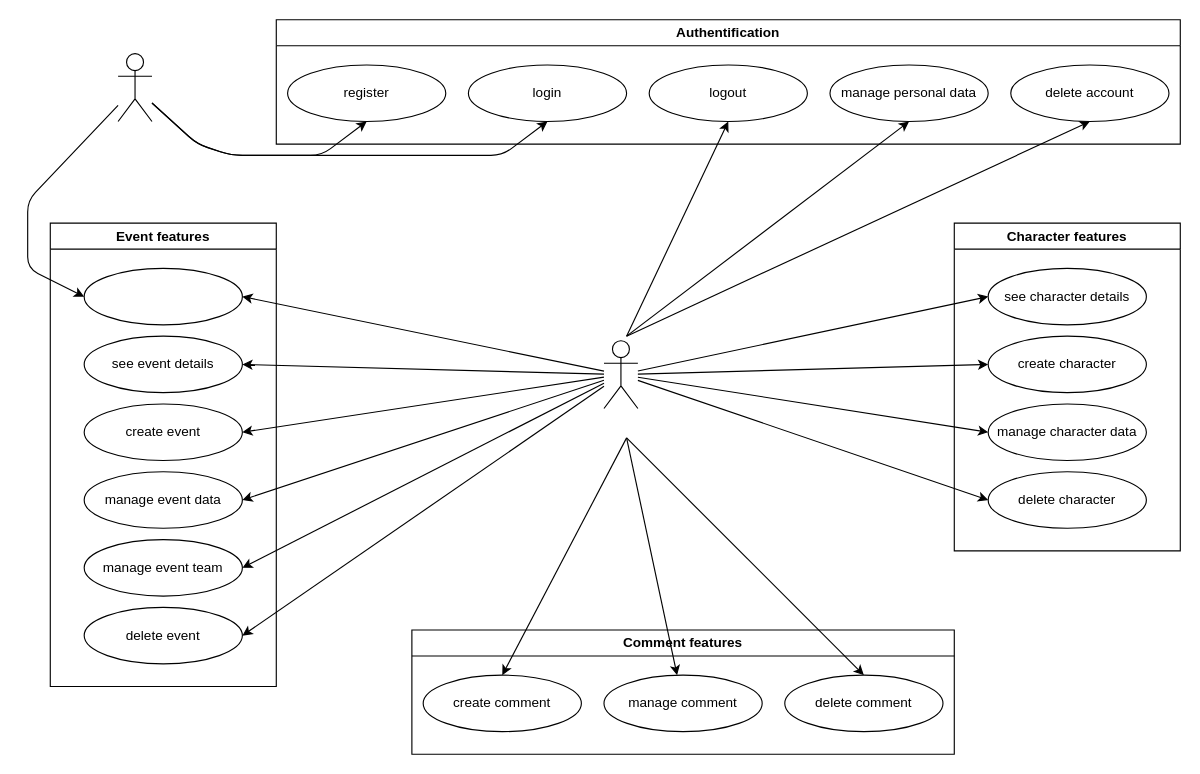
Image size: 1200x774. Some labels were removed from this diagram. Each missing label, with the centre of its shape:
see events list: point 162,296
User: point 620,374
Visitor: point 134,87
